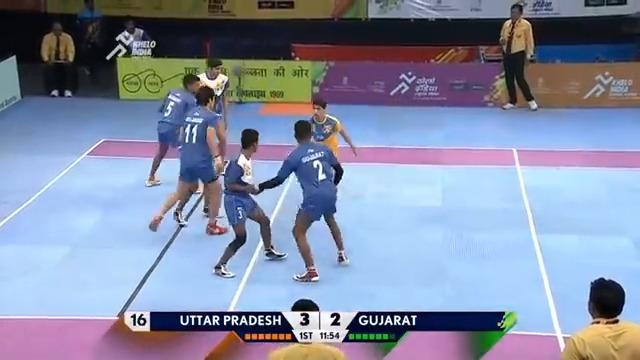Player: (249, 118, 352, 283), (147, 85, 228, 235), (211, 126, 289, 279), (197, 58, 233, 109)
Raider: (304, 97, 347, 158)
referee: (559, 276, 639, 359), (498, 2, 538, 110), (39, 20, 76, 97)
